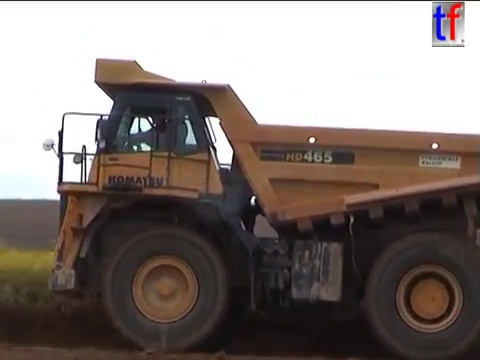truck: (40, 54, 480, 360)
